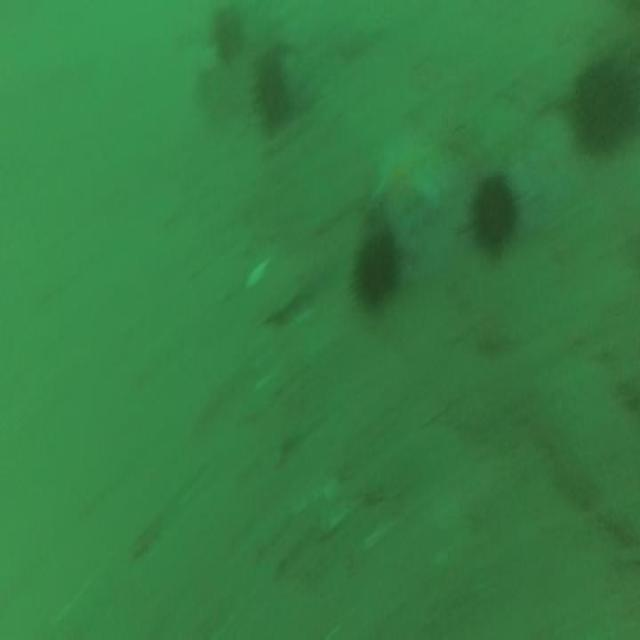echinus: (569, 54, 637, 166), (350, 225, 406, 322), (465, 166, 518, 265), (254, 41, 292, 128), (214, 3, 243, 63)
starfish: (368, 138, 445, 220)
